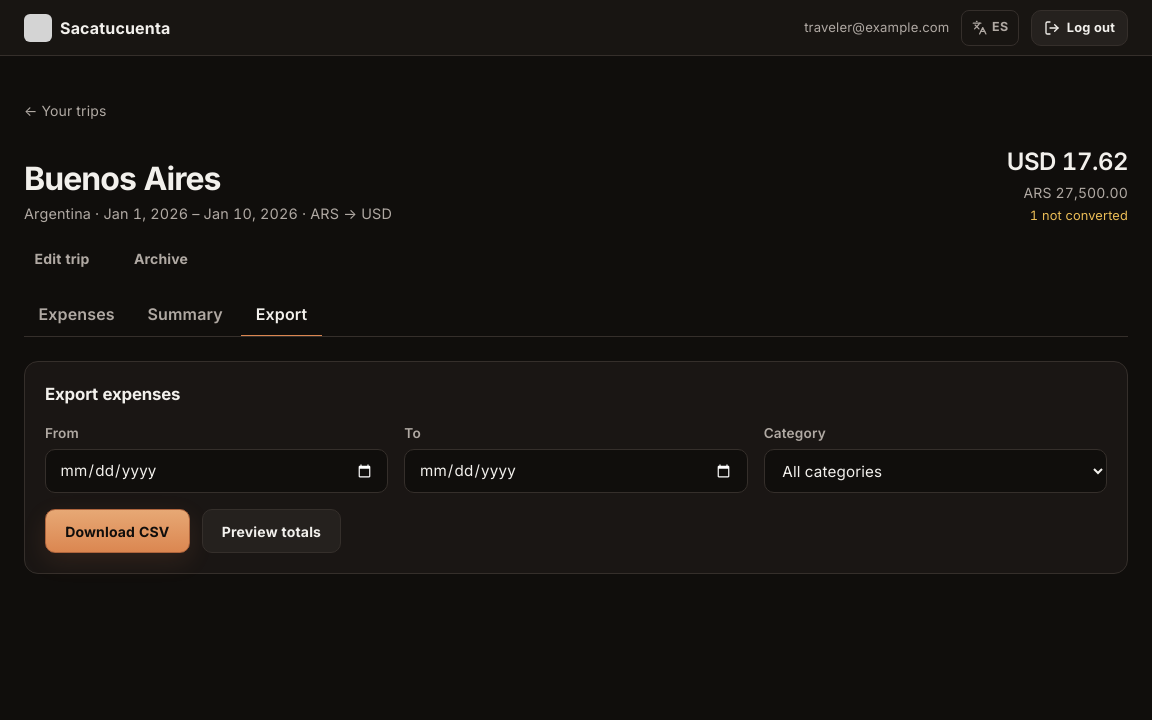
Scenario: trip view › downloads the CSV from the real export route using the server's file name
The image size is (1152, 720).
Click the button "Download CSV": (117, 531) [45,509,190,553]
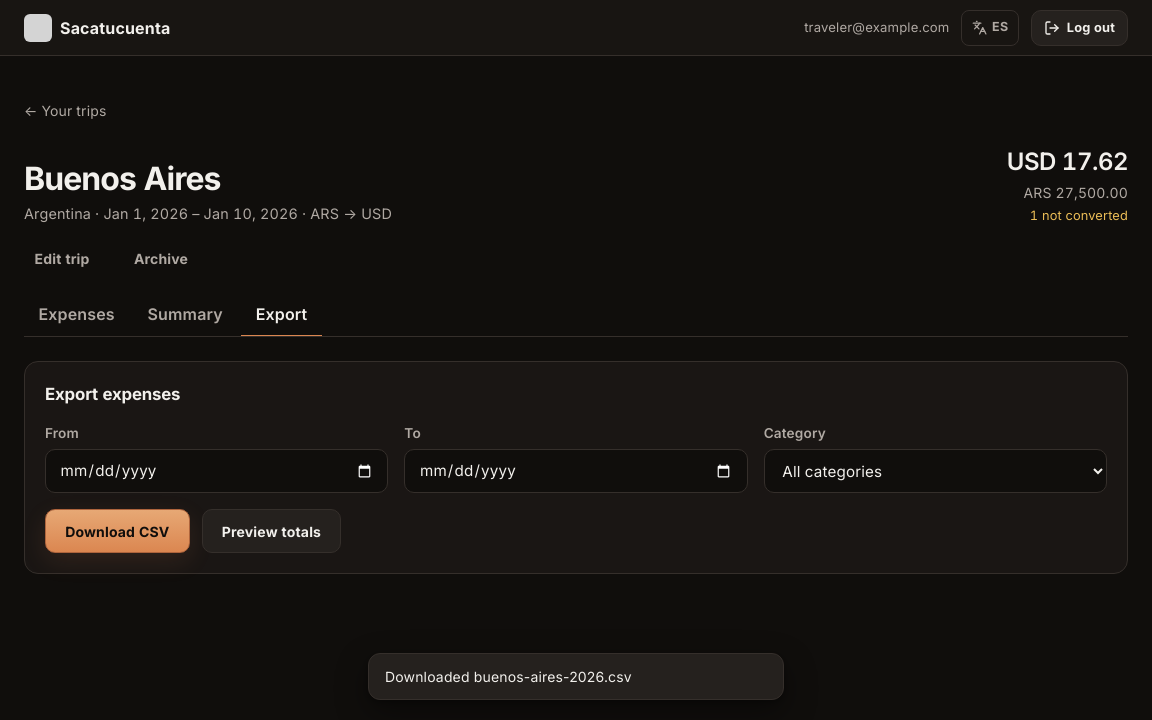
Expected: the text "Downloaded buenos-aires-2026.csv" is shown, [385,666,632,687]
